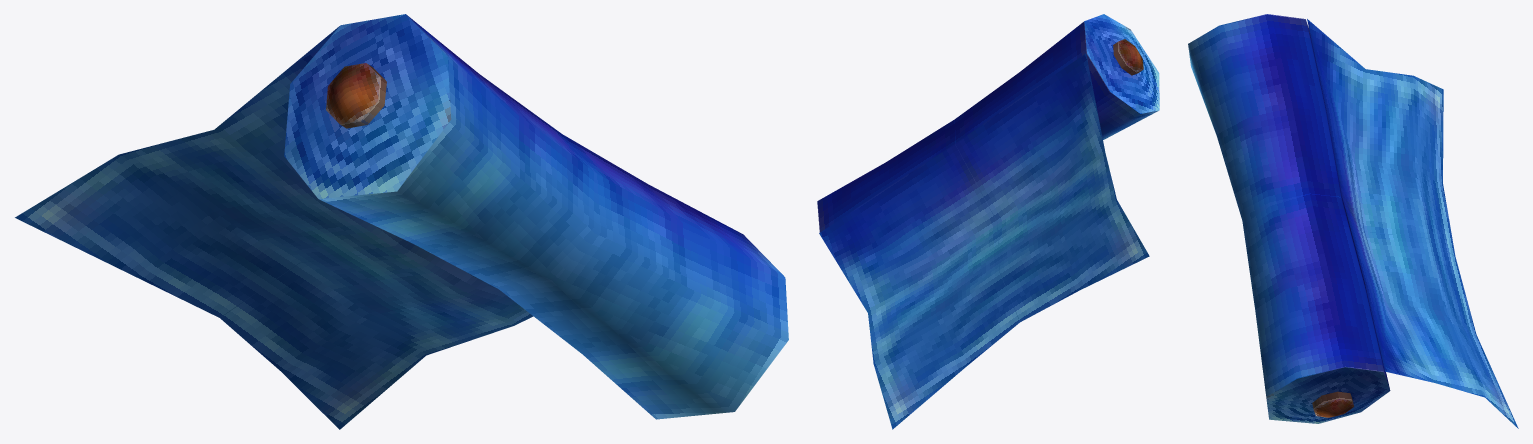
The model's file is PhaseCloth.glb.
3 views of the same model, side by side, from view 1: azimuth 30°, elevation 25°; view 2: azimuth 150°, elevation 25°; view 3: azimuth 270°, elevation 25° (orthographic). The views are drawn at different scales.
Visible parts, largest first — view 1: model_PhaseCloth; view 2: model_PhaseCloth; view 3: model_PhaseCloth.
Boxes of the visible parts, left/top/right/bottom form: model_PhaseCloth: left=15, top=14, right=788, bottom=429; model_PhaseCloth: left=817, top=14, right=1159, bottom=429; model_PhaseCloth: left=1188, top=14, right=1518, bottom=428.
Bounding box in the file's own units: 0.4049 × 0.3497 × 0.2795.
Materials: 1 (1 with a texture image).
